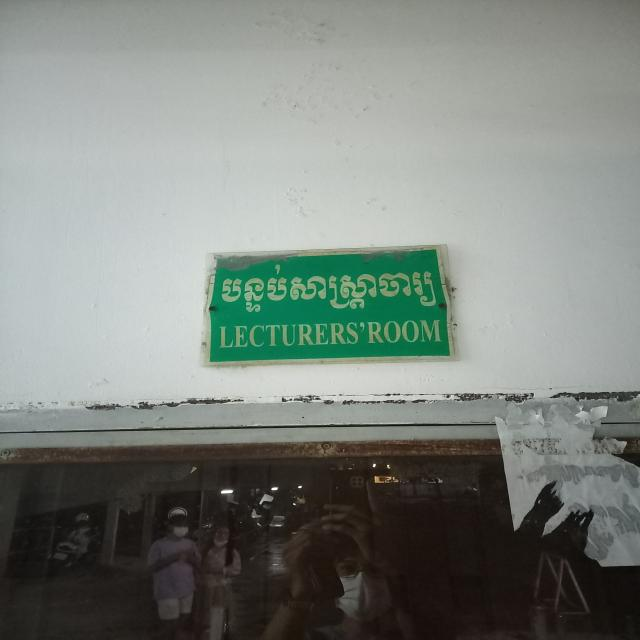Yolov11kh: (217, 260, 444, 317)
